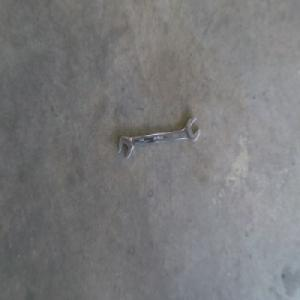Wrench: (118, 116, 201, 158)
